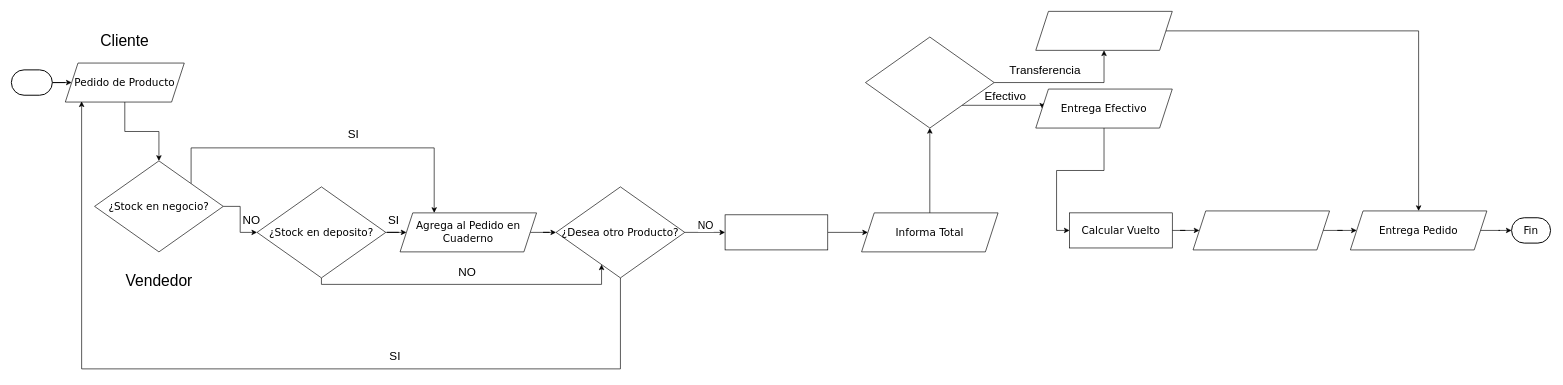
The diagram is 1563 pixels wide and 385 high, and some of its shapes have lost their labels. The centre of each missing label's shape, as x and y in pixels:
"Calcular total" goes at point (776, 232).
"Elige Medio de Pago" goes at point (929, 82).
"Entrega Vuelto" goes at point (1261, 230).
"Inicio" goes at point (32, 82).
"Muestra Comprobante" goes at point (1103, 30).
